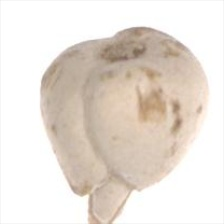L3: (65, 176, 151, 223)
L4: (39, 26, 209, 223)
